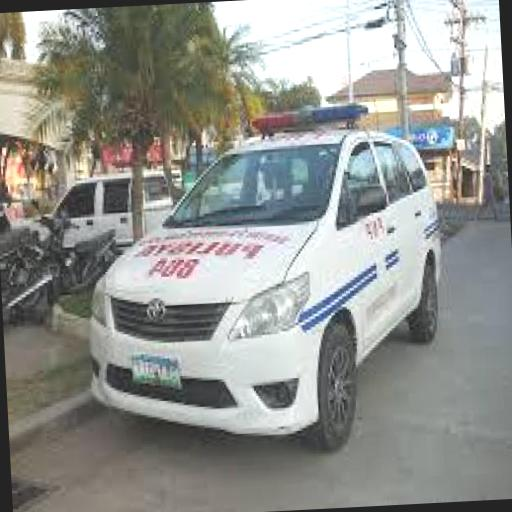Ambulance: (68, 96, 455, 466)
